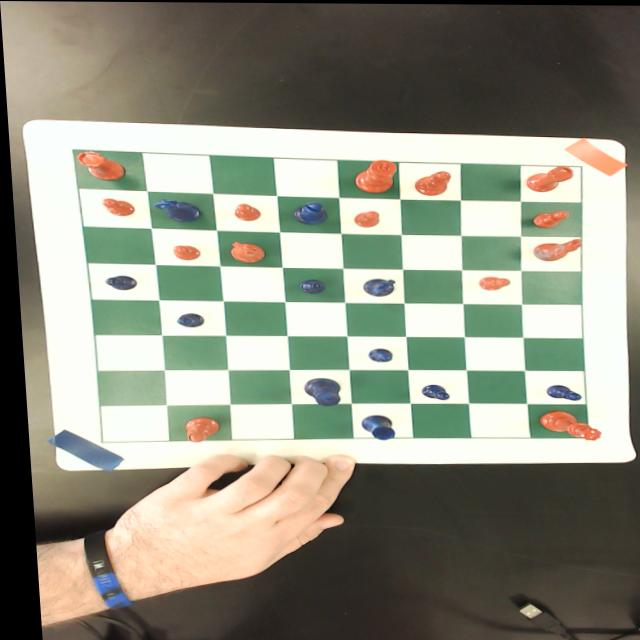B: (290, 200, 325, 224)
K: (297, 376, 336, 404)
N: (150, 196, 202, 221), (358, 276, 395, 296)
P: (541, 383, 578, 399), (99, 274, 134, 290), (415, 383, 446, 399), (295, 277, 323, 293), (362, 347, 390, 362), (172, 312, 201, 326)
R: (354, 413, 390, 439)
b: (176, 416, 216, 441), (411, 170, 450, 194)
cb: (71, 148, 582, 441)
k: (350, 158, 396, 192)
n: (528, 237, 579, 260), (223, 240, 263, 262)
p: (529, 208, 568, 228), (98, 197, 134, 215), (351, 209, 380, 227), (232, 202, 260, 220), (475, 274, 508, 289), (169, 243, 198, 259)
q: (532, 408, 596, 439)
r: (74, 150, 124, 179), (521, 163, 572, 191)
